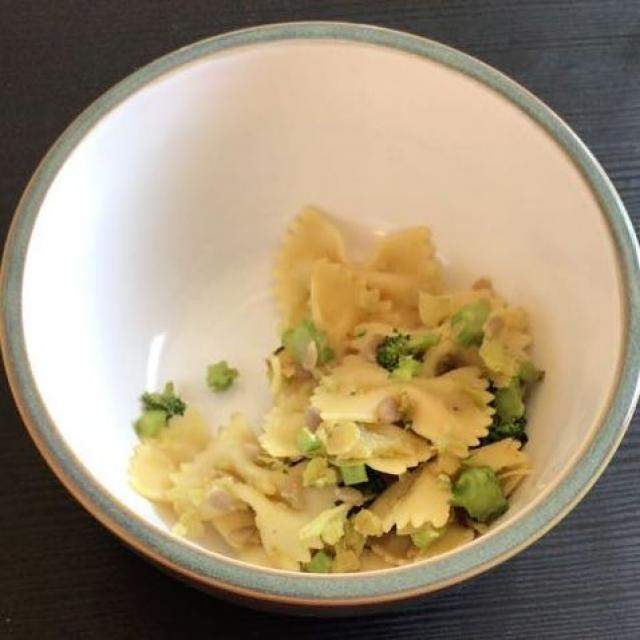pasta: (139, 210, 535, 568)
peas: (132, 304, 543, 530)
